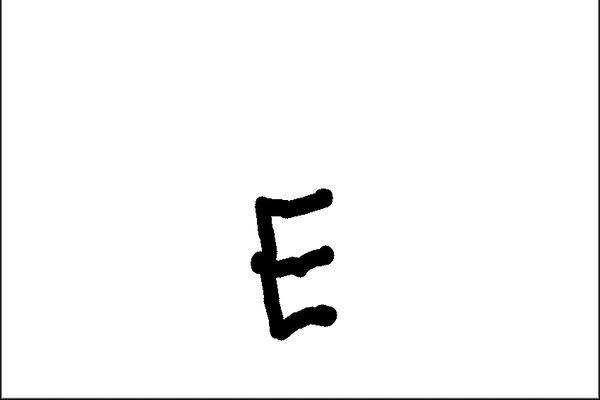E: (246, 185, 348, 342)
